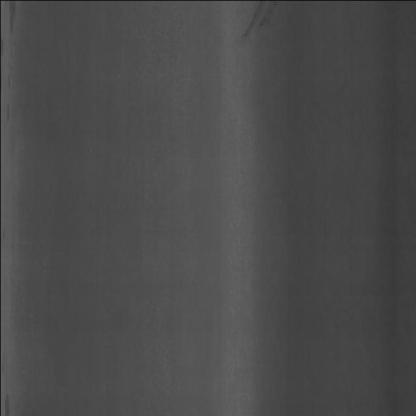water_spot: (238, 1, 277, 70)
